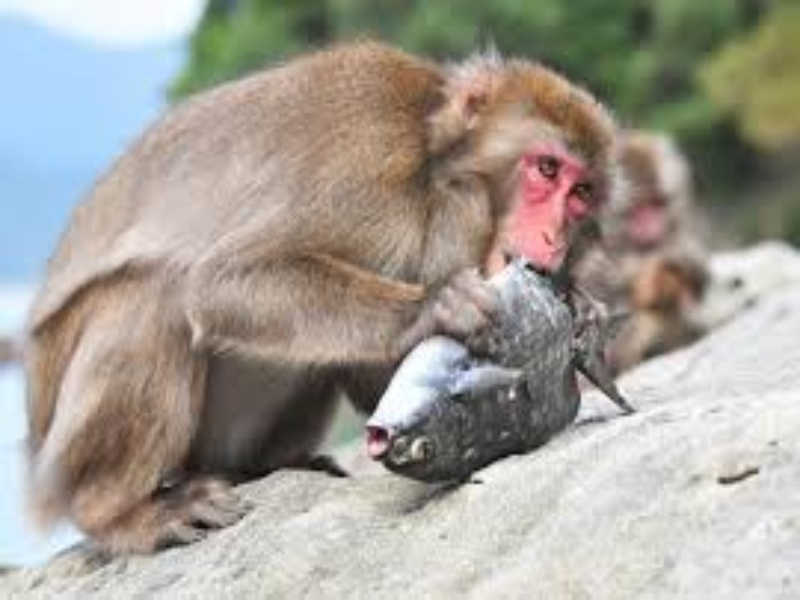monkey: (23, 39, 666, 410)
